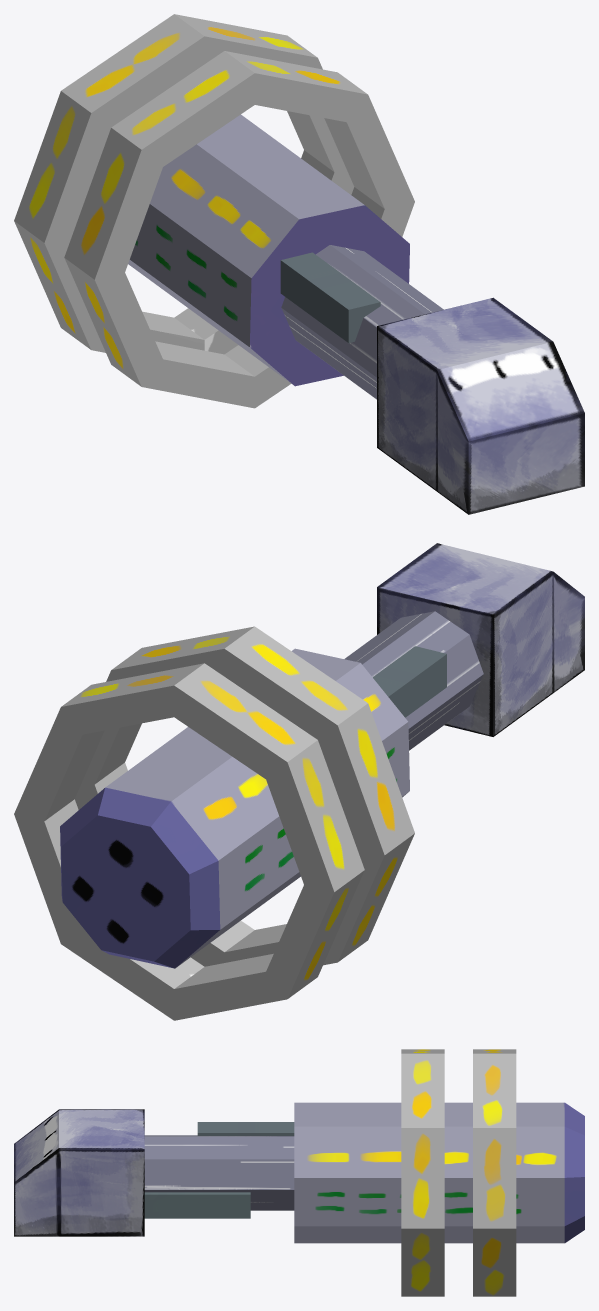
The model's file is PeopleResource.glb.
3 views of the same model, one above another, from view 1: azimuth 30°, elevation 25°; view 2: azimuth 150°, elevation 25°; view 3: azimuth 270°, elevation 25° (orthographic). The views are drawn at different scales.
Visible parts, largest first — view 1: ColonyShip; view 2: ColonyShip; view 3: ColonyShip.
Part boxes in pixels (x1,y1,x2,y2): ColonyShip: [14, 14, 584, 514]; ColonyShip: [14, 543, 584, 1020]; ColonyShip: [14, 1049, 584, 1296].
Size of the model in its own units: 0.7152 by 0.7152 by 1.55.
Materials: 1 (1 with a texture image).
